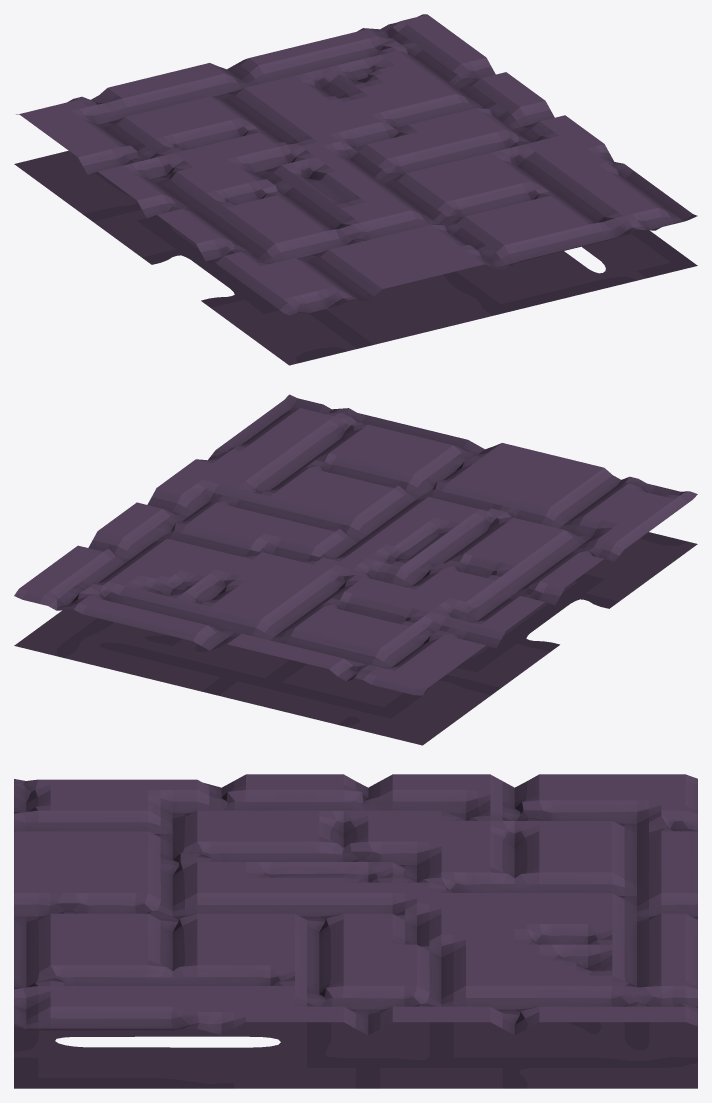
Rendered from delbld-hull-575.glb.
The picture shows the model from 3 angles, top to bottom: view 1: azimuth 30°, elevation 25°; view 2: azimuth 150°, elevation 25°; view 3: azimuth 270°, elevation 25°; orthographic projection. The views are drawn at different scales.
Parts seen in each view (by area): view 1: delbld-hull-575; view 2: delbld-hull-575; view 3: delbld-hull-575.
Boxes of the visible parts, x1,y1,x2,y2 form: delbld-hull-575: (14,14,697,365); delbld-hull-575: (14,394,697,745); delbld-hull-575: (14,774,697,1088).
Bounding box in the file's own units: 2 × 0.25 × 2.33.
2 materials, 2 textured.
